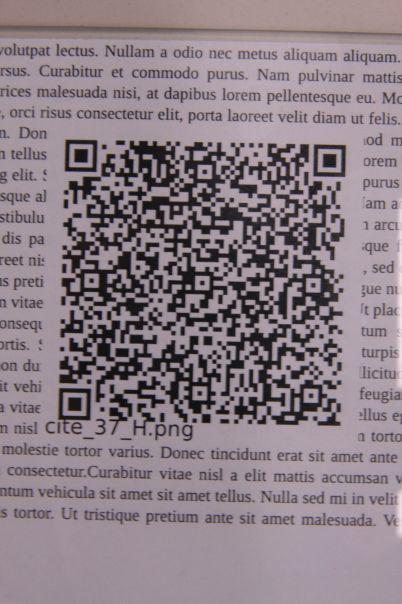Finder pattern: (53, 382, 98, 426), (59, 135, 102, 177), (309, 139, 351, 181)
